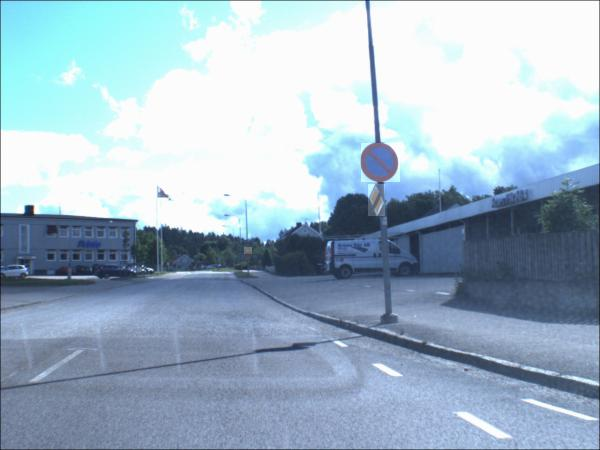NO_PARKING: (363, 144, 403, 184)
PRIORITY_ROAD: (369, 185, 387, 218)
WARNING: (245, 248, 254, 256)
